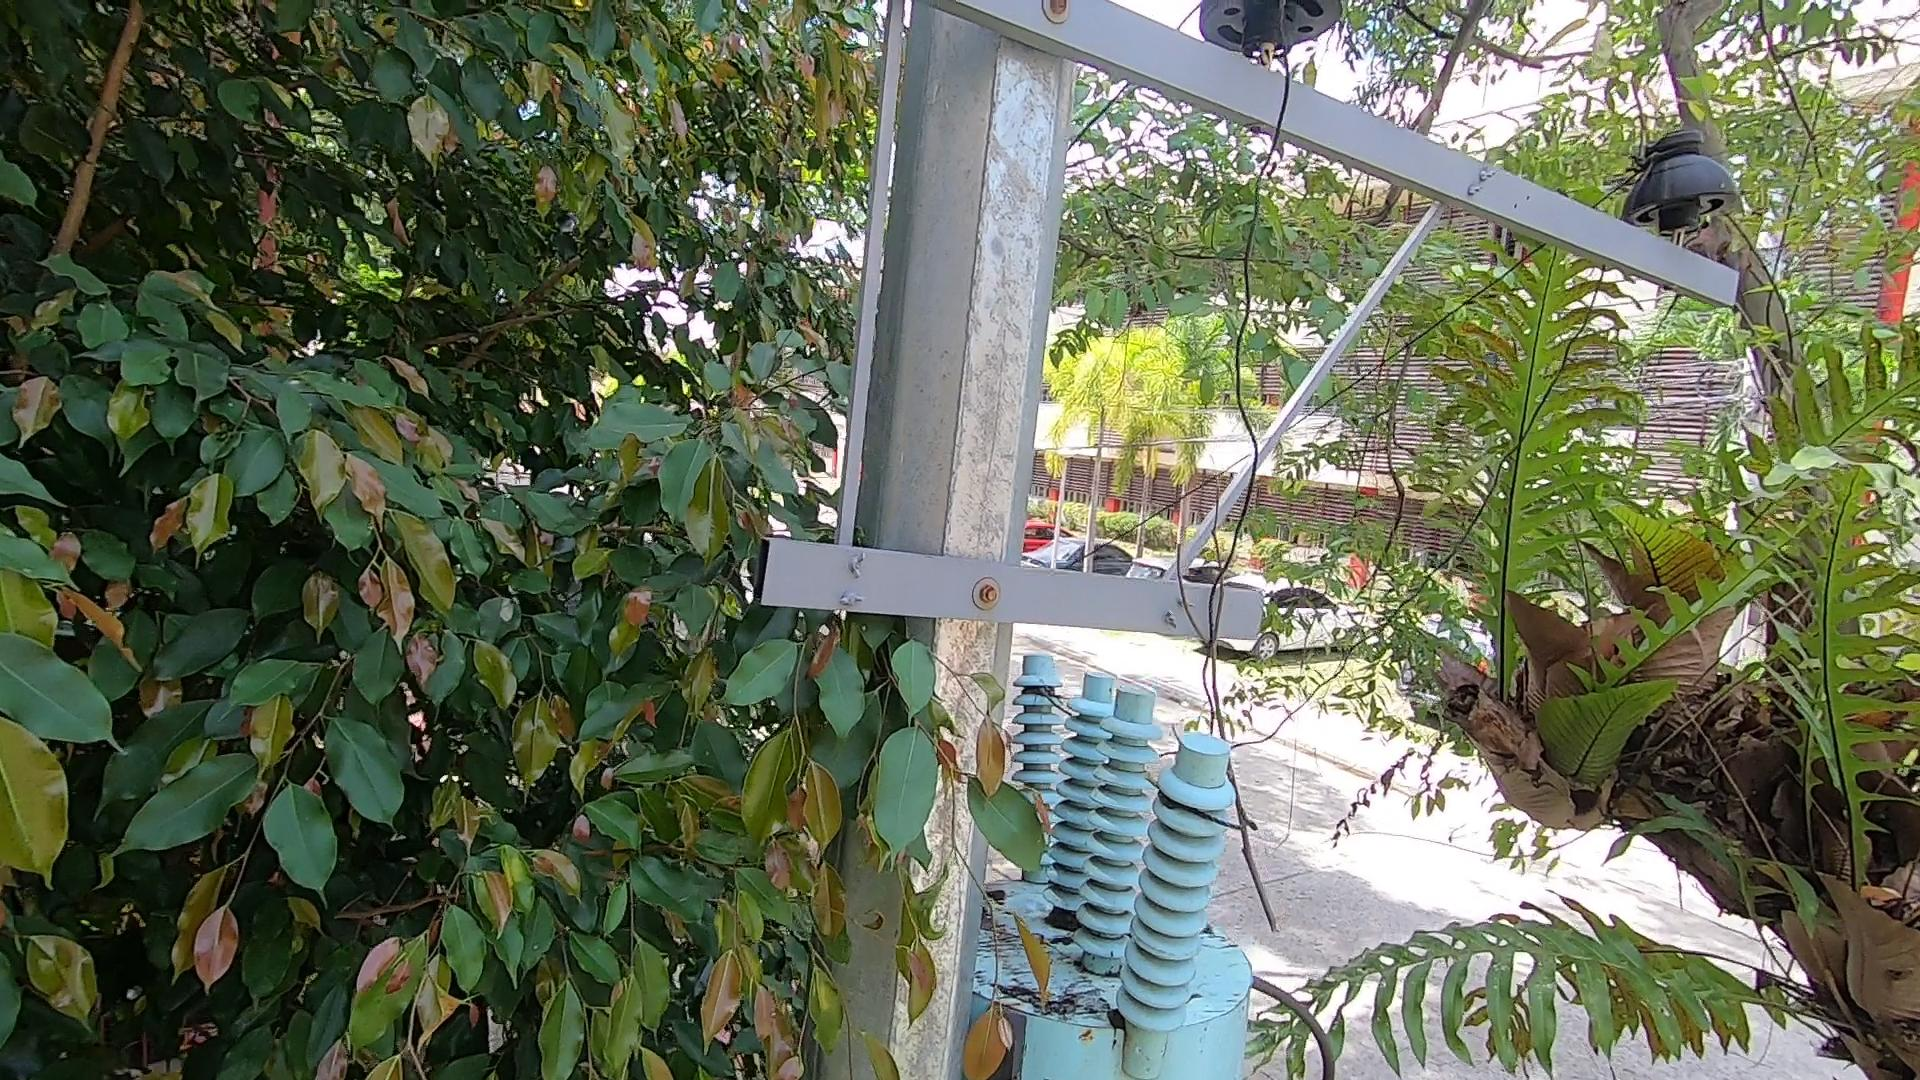tree branch: (1147, 411, 1331, 948)
